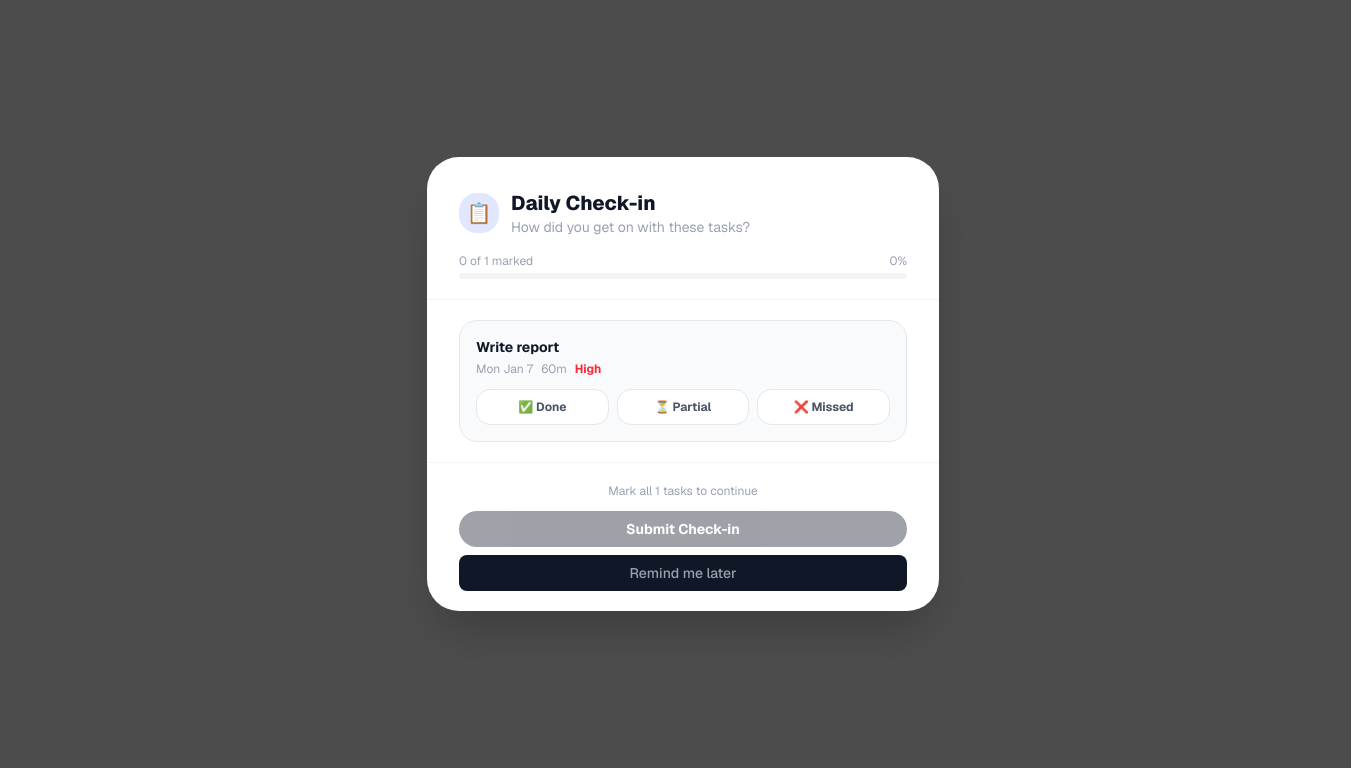
Test: CheckInModal — footer › hides prompt when all tasks are answered
This screenshot has width=1366, height=768.
Click the button "✅ Done" at coordinates (542, 407), box [476,389,609,425]
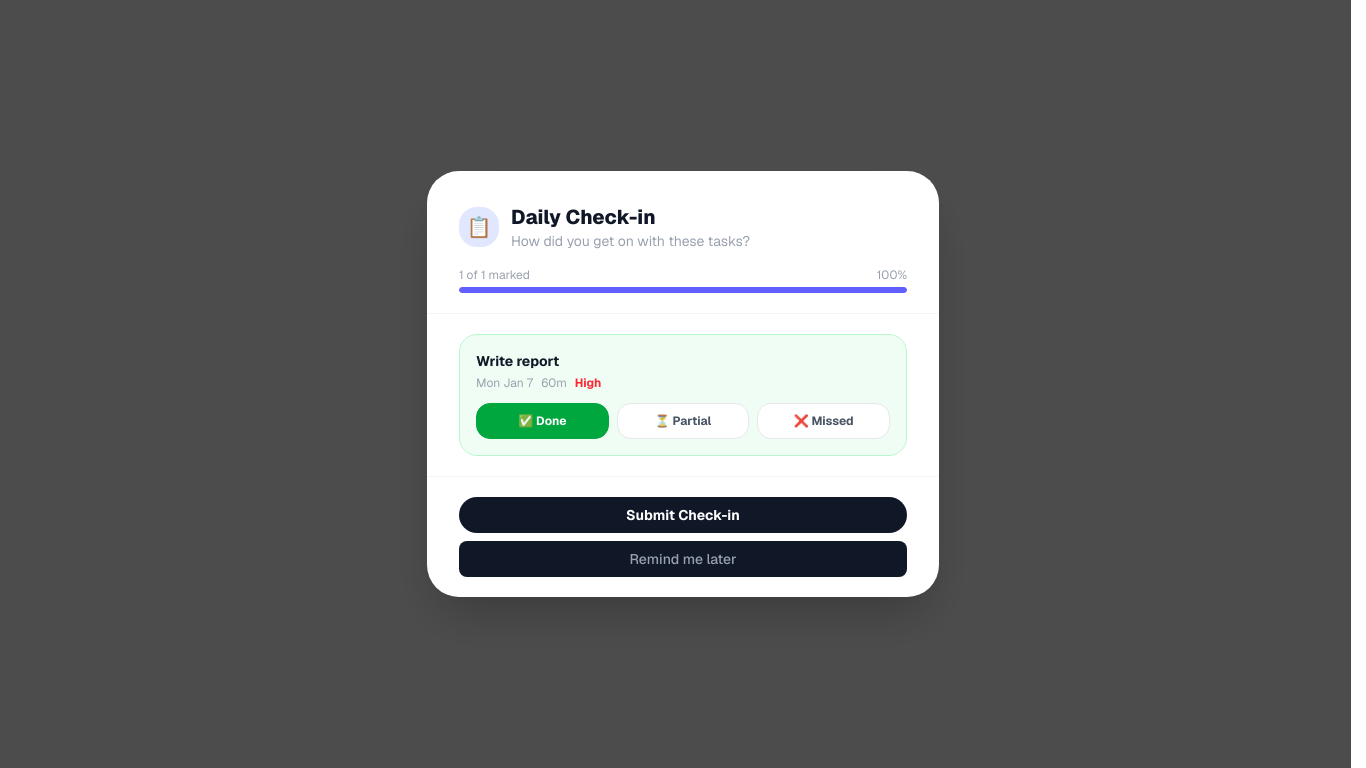
Expected: the text "Mark all" is gone
